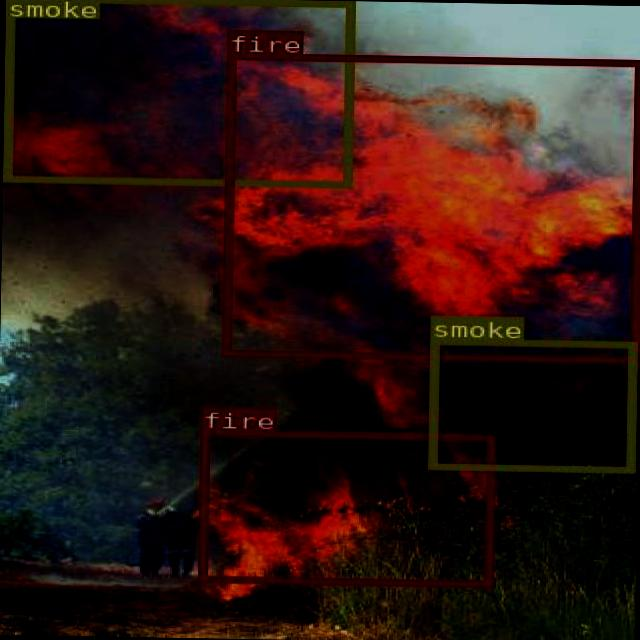fire: (220, 51, 640, 361), (196, 428, 494, 585)
smoke: (2, 0, 353, 185), (427, 336, 635, 472)
